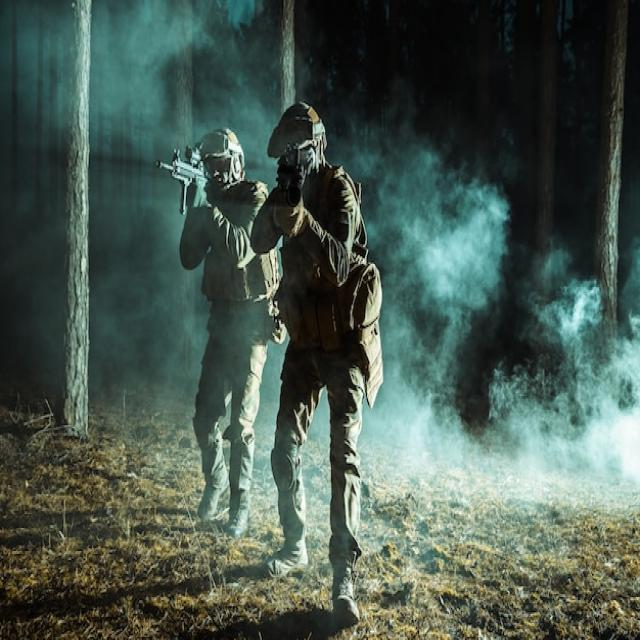Forest: (0, 0, 640, 640)
Militant: (238, 93, 405, 633), (153, 108, 282, 584)
